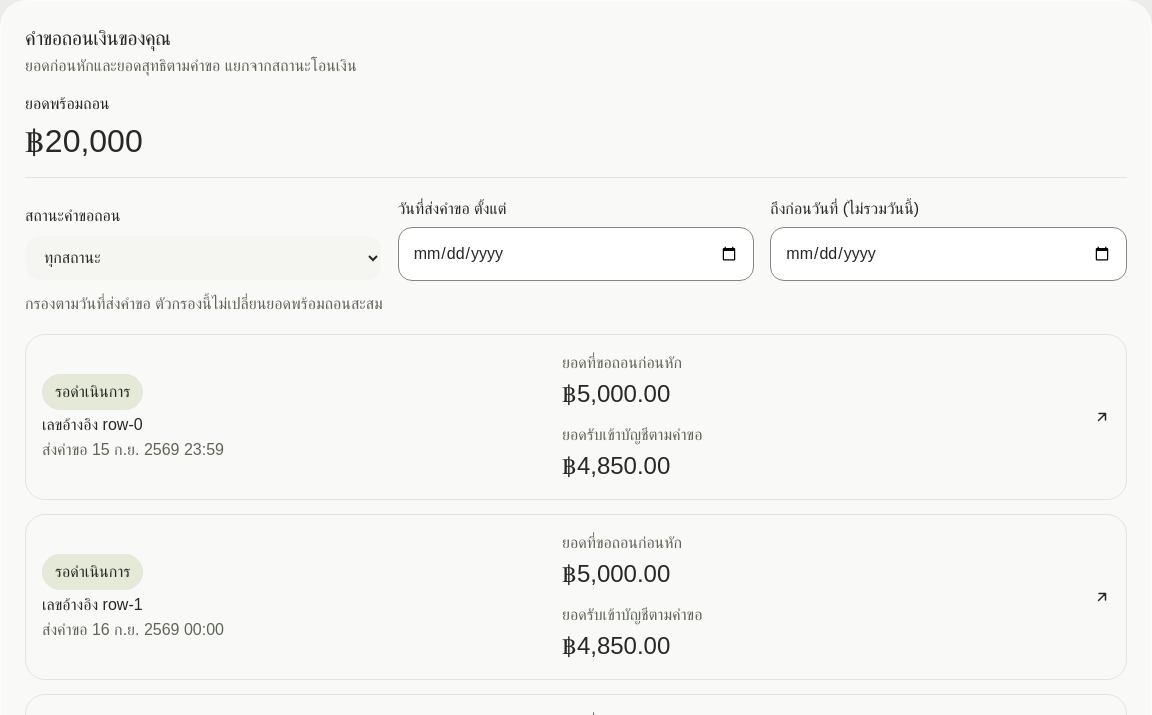
Test: Withdrawal history experience › defaults to all-time history and filters Bangkok dates with a half-open midnight boundary without refetching money
Expected: the link with aria-label "ดูรายละเอียดคำขอ row-0" is shown, [25,334,1127,500]
Expected: the text "฿20,000" is shown, [25,122,143,161]
Type "2026-09-16" into the date field labelled "วันที่ส่งคำขอ ตั้งแต่".
click(576, 254); type("2026-09-16")  # box [398,227,754,281]
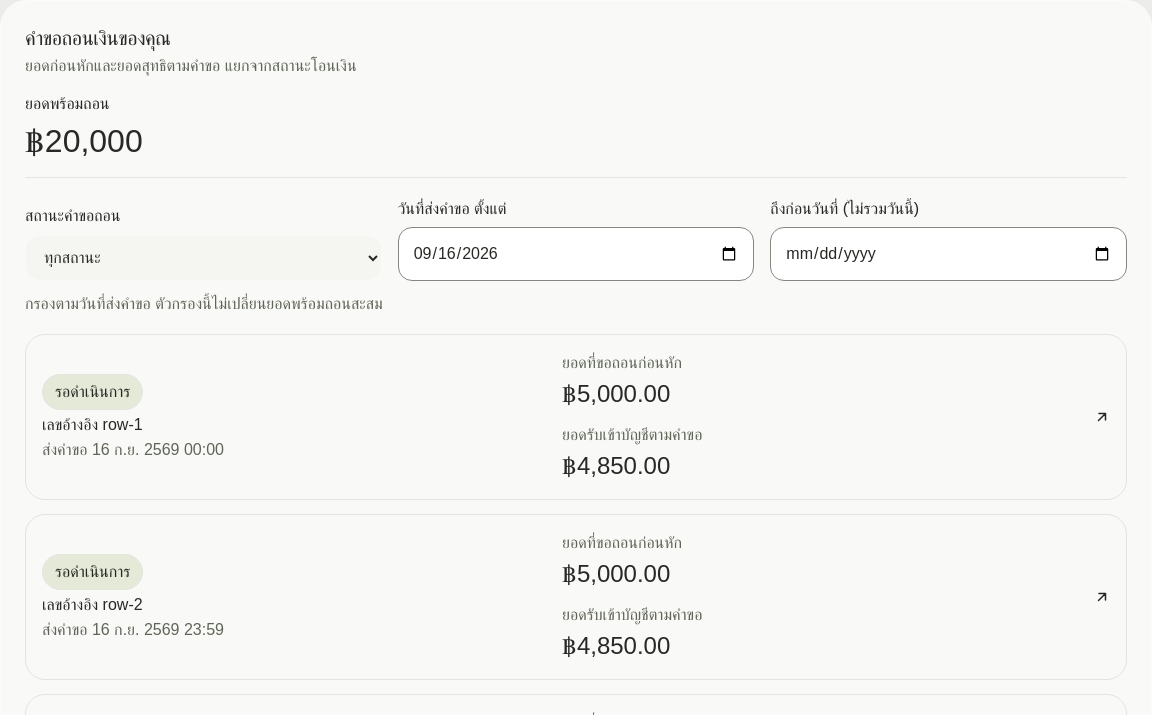
Type "2026-09-17" into the date field labelled "ถึงก่อนวันที่ (ไม่รวมวันนี้)".
click(949, 254); type("2026-09-17")  # box [770,227,1127,281]
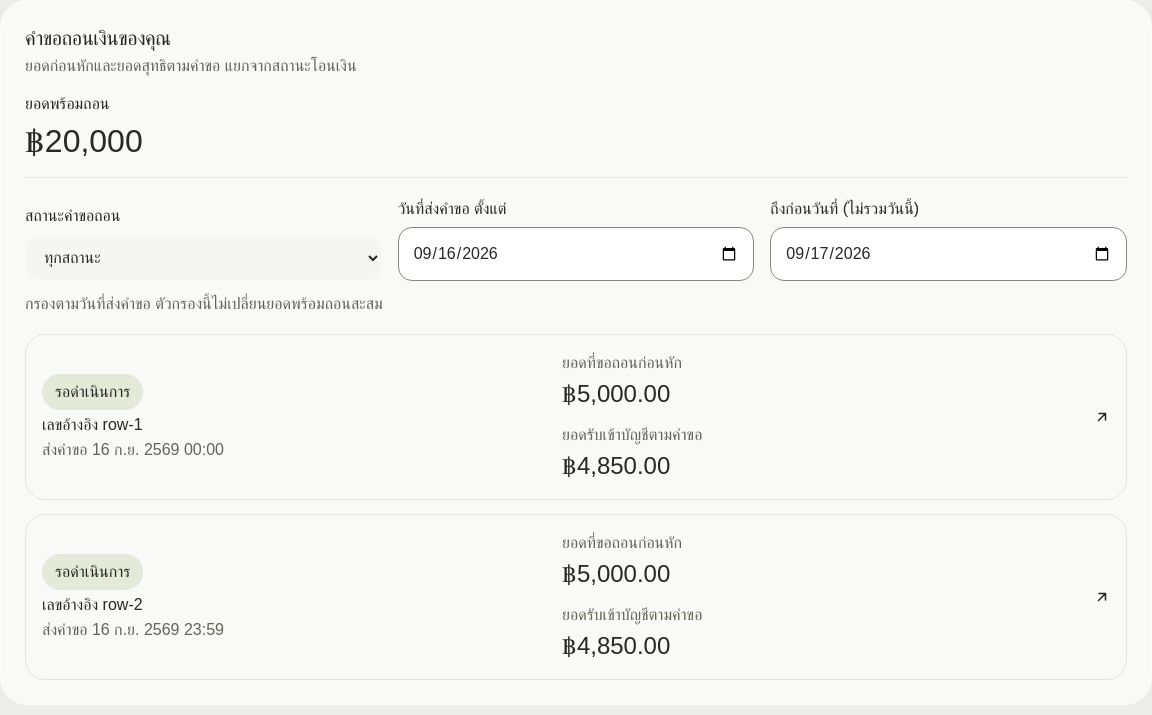
Expected: the link with aria-label "ดูรายละเอียดคำขอ row-2" is shown, [25,514,1127,680]
Expected: the number of links is 2, [25,334,1127,500]; [25,514,1127,680]
Select "โอนเงินแล้ว" in the dropdown at (203, 258), box [25,235,382,281]
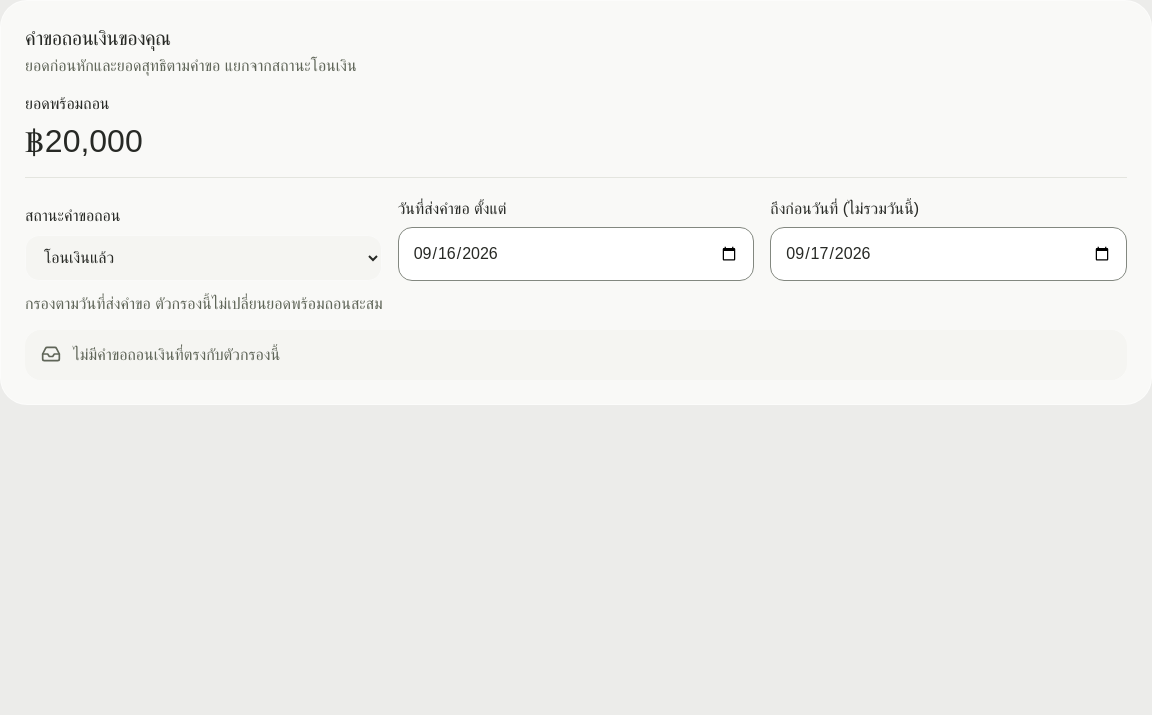
Expected: the text "฿20,000" is shown, [25,122,143,161]
Expected: the text "ไม่มีคำขอถอนเงินที่ตรงกับตัวกรองนี้" is shown, [73,346,280,363]
